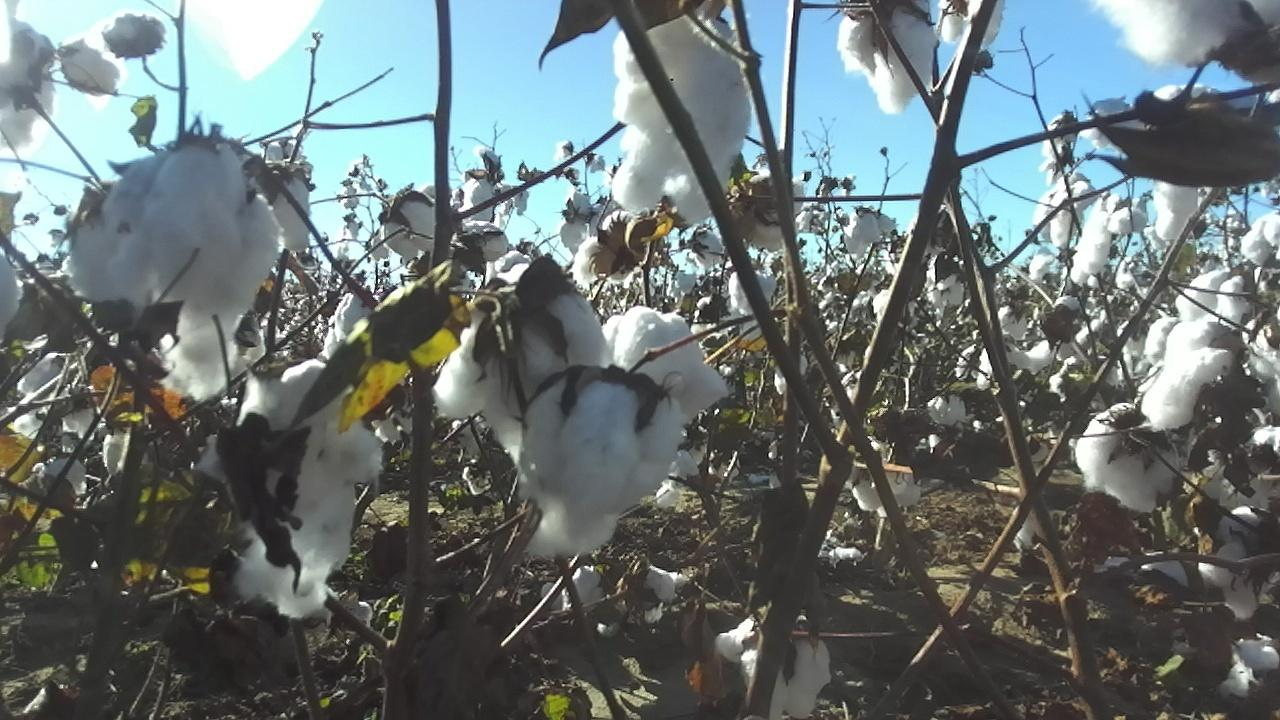cotton_ready: (223, 359, 389, 622), (432, 280, 614, 469), (111, 137, 279, 319), (613, 22, 755, 224), (524, 379, 684, 558), (601, 304, 734, 418), (1072, 403, 1184, 517), (716, 612, 832, 720), (1094, 0, 1280, 65), (1152, 84, 1224, 241), (840, 0, 939, 112), (1144, 318, 1232, 432), (1138, 547, 1265, 617), (161, 315, 262, 398), (1070, 192, 1149, 285), (0, 21, 54, 149), (67, 190, 123, 309), (1206, 425, 1280, 513), (1174, 264, 1254, 337), (261, 165, 317, 254), (1212, 629, 1280, 700), (746, 177, 807, 255), (572, 207, 630, 289), (613, 564, 680, 628), (381, 192, 439, 262), (544, 563, 609, 614), (1085, 100, 1153, 147), (467, 249, 537, 294), (938, 0, 1005, 44), (1242, 319, 1280, 385), (0, 254, 25, 343), (1240, 214, 1280, 269)
